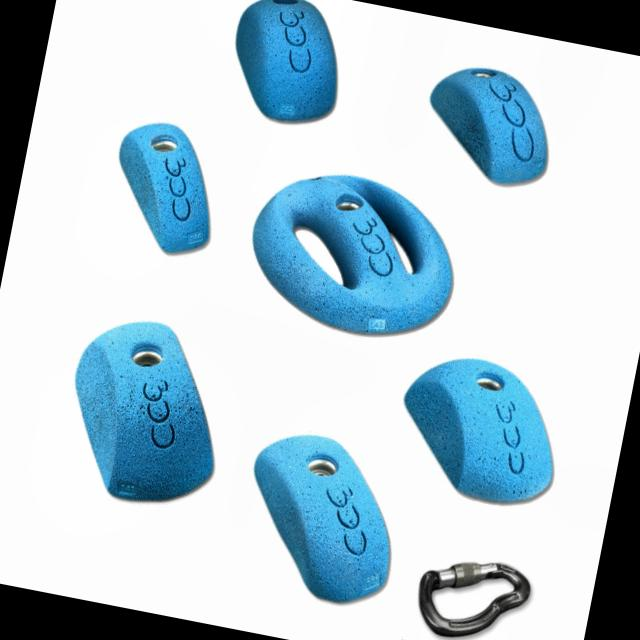Hold: (238, 160, 472, 352), (54, 316, 240, 522), (230, 424, 410, 606), (381, 352, 578, 514), (419, 58, 563, 188), (103, 114, 226, 257), (222, 0, 355, 126)
